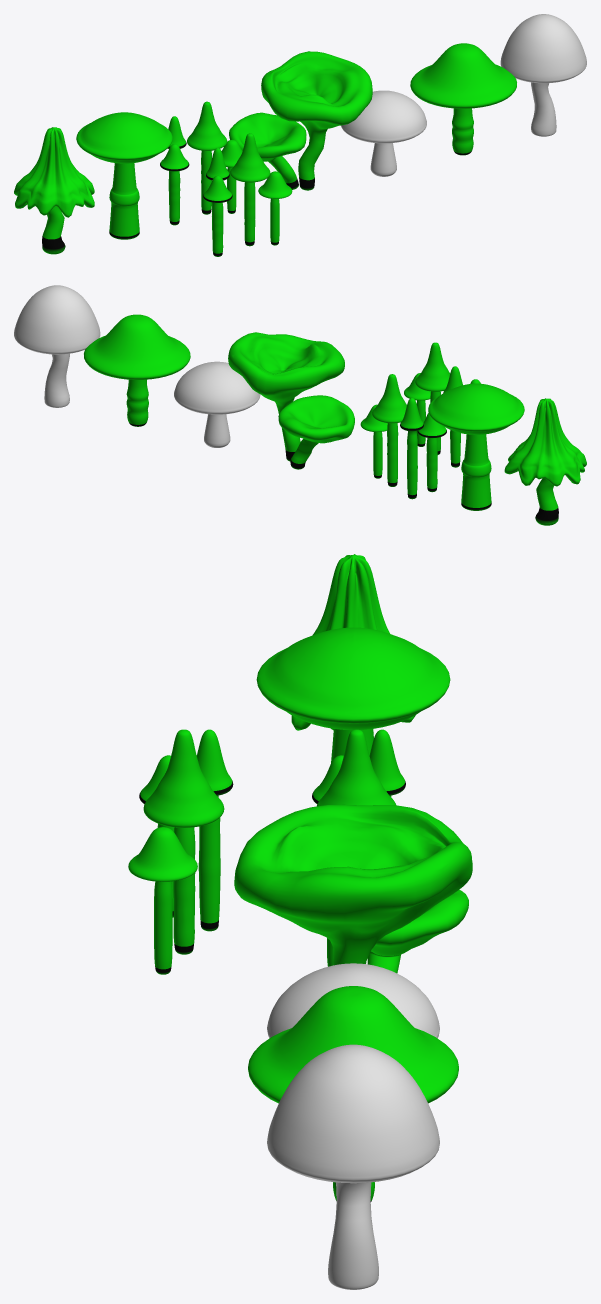
File: mushies_lineup_shroom.fbx
3 renders of one model, top to bottom at view 1: azimuth 30°, elevation 25°; view 2: azimuth 150°, elevation 25°; view 3: azimuth 270°, elevation 25°, orthographic. The views are drawn at different scales.
Visible parts, largest first — view 1: polySurface8, polySurface16, pCylinder2, pCylinder22, polySurface15, polySurface12, pasted__pCylinder22, polySurface23, polySurface26, polySurface24, polySurface25; view 2: polySurface8, polySurface16, pCylinder2, pCylinder22, polySurface12, polySurface15, pasted__pCylinder22, polySurface23, polySurface25, polySurface24; view 3: polySurface8, pCylinder22, pCylinder2, polySurface16, polySurface23, pasted__pCylinder22, polySurface12, polySurface24, polySurface15, polySurface25.
Boxes of the visible parts, x1=… form: polySurface8: x1=229, y1=51, x2=372, y2=190; polySurface16: x1=410, y1=43, x2=516, y2=155; pCylinder2: x1=76, y1=112, x2=172, y2=239; pCylinder22: x1=500, y1=14, x2=586, y2=136; polySurface15: x1=14, y1=127, x2=94, y2=254; polySurface12: x1=160, y1=101, x2=242, y2=225; pasted__pCylinder22: x1=341, y1=90, x2=426, y2=176; polySurface23: x1=230, y1=133, x2=270, y2=246; polySurface26: x1=203, y1=175, x2=232, y2=256; polySurface24: x1=258, y1=171, x2=292, y2=245; polySurface25: x1=206, y1=148, x2=229, y2=239; polySurface8: x1=228, y1=332, x2=354, y2=469; polySurface16: x1=84, y1=314, x2=190, y2=426; pCylinder2: x1=428, y1=383, x2=524, y2=510; pCylinder22: x1=14, y1=285, x2=100, y2=407; polySurface12: x1=360, y1=374, x2=446, y2=499; polySurface15: x1=504, y1=398, x2=586, y2=525; pasted__pCylinder22: x1=174, y1=361, x2=260, y2=447; polySurface23: x1=415, y1=342, x2=450, y2=454; polySurface25: x1=443, y1=366, x2=462, y2=467; polySurface24: x1=404, y1=373, x2=430, y2=446; polySurface8: x1=234, y1=804, x2=472, y2=973; pCylinder22: x1=267, y1=1044, x2=439, y2=1289; pCylinder2: x1=256, y1=627, x2=450, y2=762; polySurface16: x1=248, y1=986, x2=458, y2=1201; polySurface23: x1=143, y1=729, x2=224, y2=954; pasted__pCylinder22: x1=267, y1=963, x2=439, y2=1038; polySurface12: x1=312, y1=729, x2=405, y2=966; polySurface24: x1=128, y1=827, x2=197, y2=974; polySurface15: x1=291, y1=554, x2=415, y2=730; polySurface25: x1=196, y1=729, x2=233, y2=931.
Bounding box in the file's own units: 14.07 × 3.03 × 3.73.
